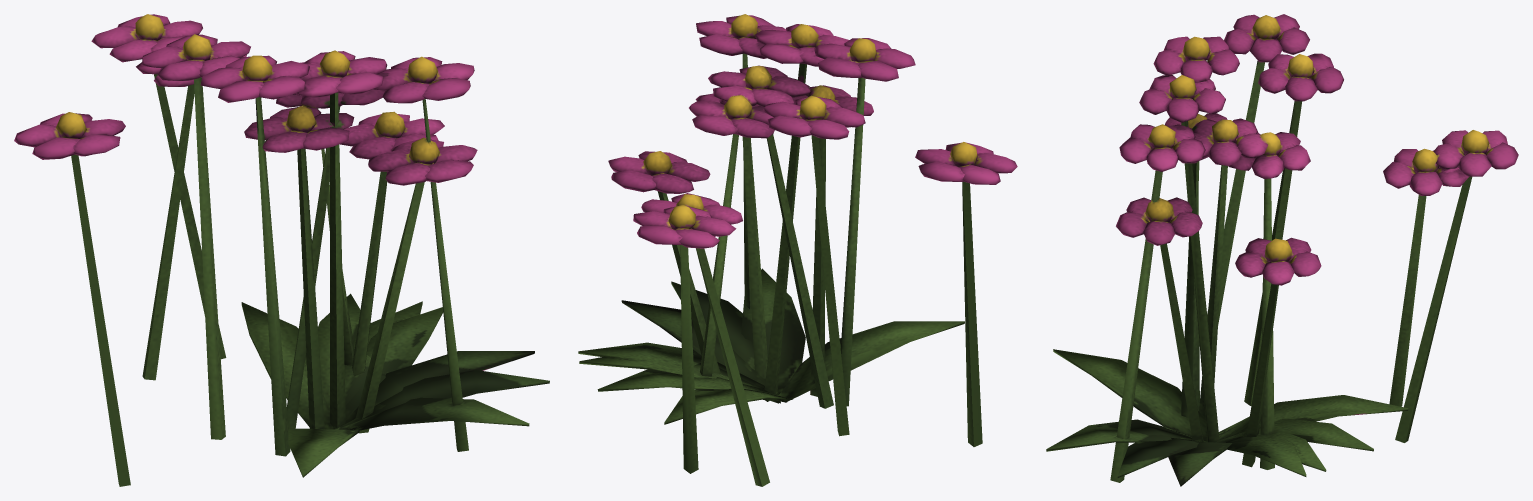
The model's file is costa_flores_a.glb.
3 views of the same model, side by side, from view 1: azimuth 30°, elevation 25°; view 2: azimuth 150°, elevation 25°; view 3: azimuth 270°, elevation 25° (orthographic). The views are drawn at different scales.
Visible parts, largest first — view 1: costa_flores_a; view 2: costa_flores_a; view 3: costa_flores_a.
Part boxes in pixels (bbox=[...]): costa_flores_a: bbox=[14, 14, 549, 486]; costa_flores_a: bbox=[578, 14, 1017, 486]; costa_flores_a: bbox=[1046, 14, 1518, 486].
Size of the model in its own units: 0.5306 by 0.4408 by 0.5093.
1 material, 1 textured.
